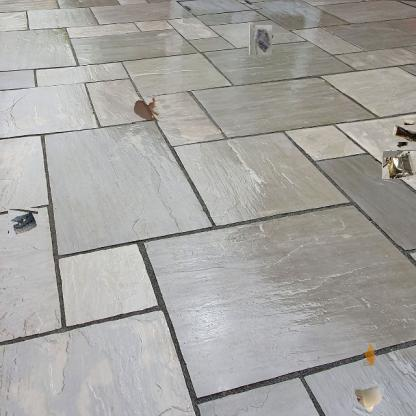dirty: (352, 384, 384, 416), (382, 150, 416, 180), (8, 209, 38, 236), (248, 27, 274, 54), (394, 121, 416, 144)
liquid: (132, 98, 160, 124), (362, 342, 376, 366)
